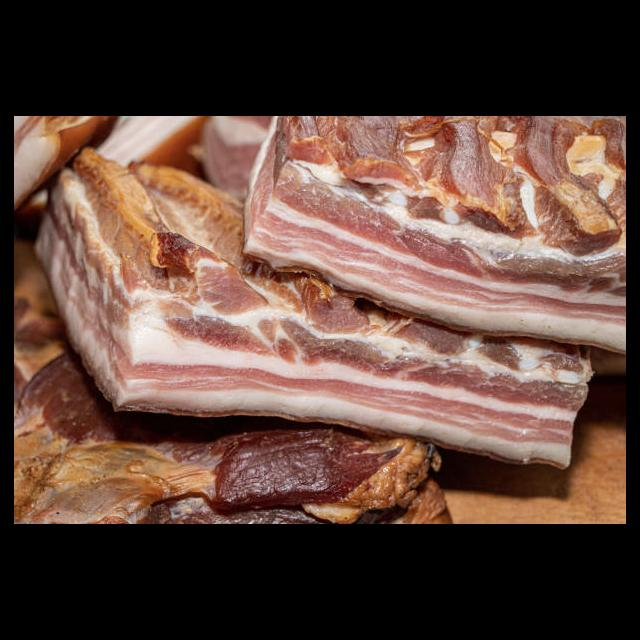pork: (244, 116, 626, 303), (263, 301, 594, 458), (48, 169, 266, 407)
